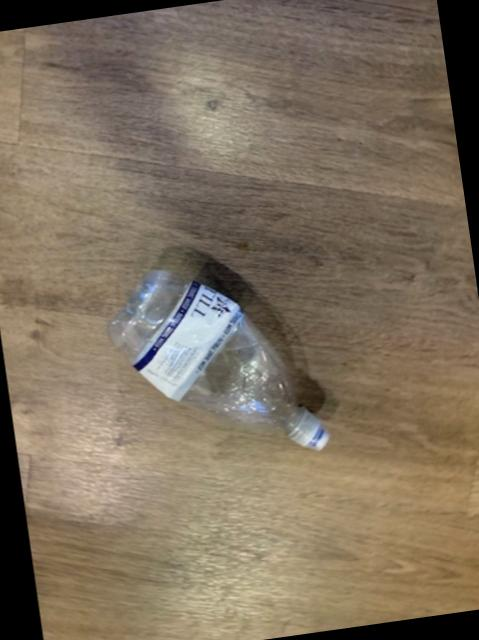plastic: (109, 272, 329, 451)
